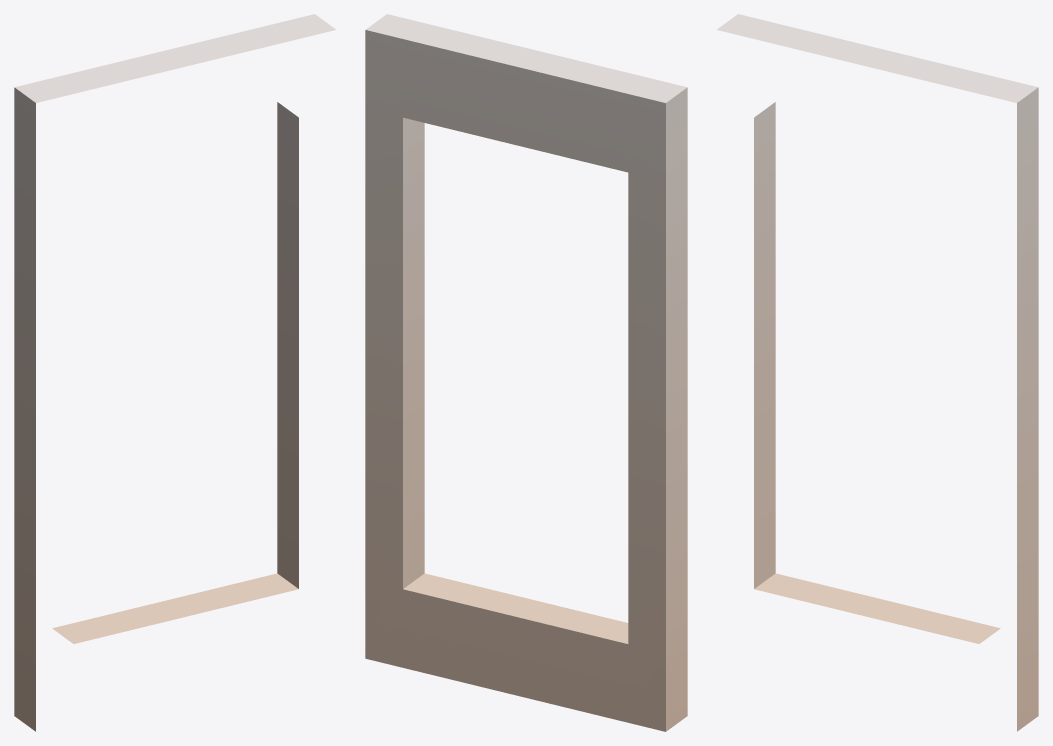
File: wall-modular-panelled-bakery-window-large-b.glb
The picture shows the model from 3 angles, left to right: view 1: azimuth 30°, elevation 25°; view 2: azimuth 150°, elevation 25°; view 3: azimuth 330°, elevation 25°; orthographic projection.
Visible parts, largest first — view 1: wall_modular_panelled_bakery_window_large_B; view 2: wall_modular_panelled_bakery_window_large_B; view 3: wall_modular_panelled_bakery_window_large_B.
Boxes of the visible parts, bbox=[...] form: wall_modular_panelled_bakery_window_large_B: bbox=[14, 14, 336, 731]; wall_modular_panelled_bakery_window_large_B: bbox=[365, 14, 687, 731]; wall_modular_panelled_bakery_window_large_B: bbox=[716, 14, 1038, 731].
Size of the model in its own units: 2 by 4 by 0.25.
Materials: 1 (1 with a texture image).
